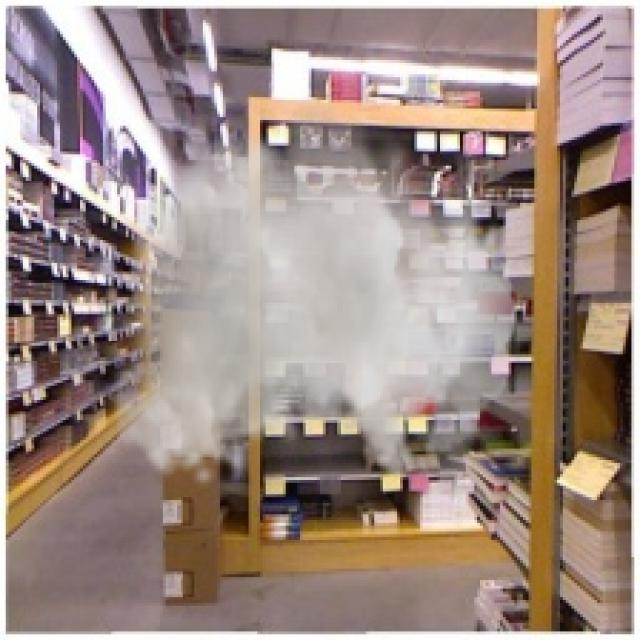smoke: (112, 80, 517, 489)
